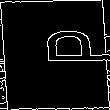P_W: (8, 35, 102, 75)
